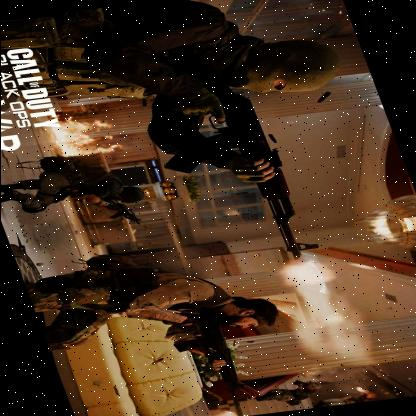rifle: (140, 47, 320, 270), (165, 306, 260, 416)
